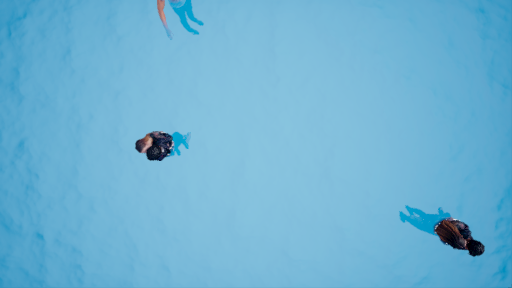person: (402, 200, 490, 258), (132, 129, 197, 165)
